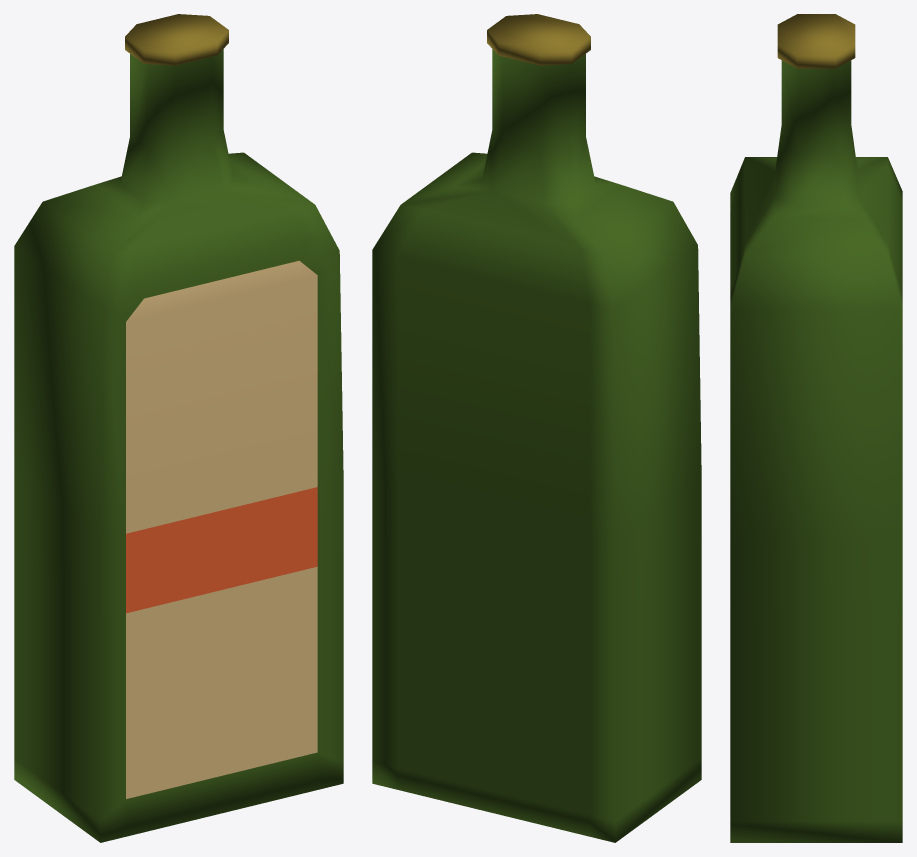
Rendered from Jager.fbx.
3 renders of one model, left to right at view 1: azimuth 30°, elevation 25°; view 2: azimuth 150°, elevation 25°; view 3: azimuth 270°, elevation 25°, orthographic.
Parts seen in each view (by area): view 1: Cube.007; view 2: Cube.007; view 3: Cube.007.
Part boxes in pixels (bbox=[...]): Cube.007: bbox=[14, 14, 343, 842]; Cube.007: bbox=[372, 14, 701, 842]; Cube.007: bbox=[730, 14, 902, 842].
Size of the model in its own units: 14.06 by 41.38 by 8.64.
